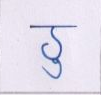u_matra: (41, 63, 65, 78)
